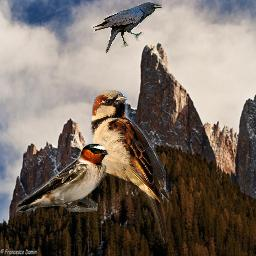Crow: (91, 2, 162, 54)
Swallow: (89, 90, 169, 243), (15, 142, 109, 212)
